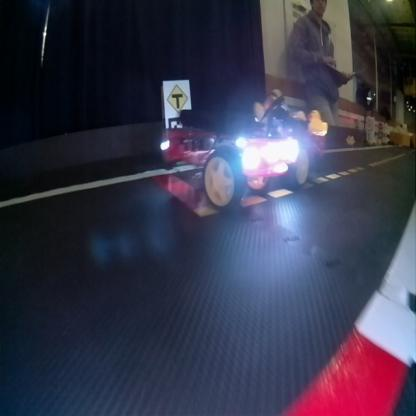Duckie: (307, 109, 325, 136), (349, 135, 354, 144)
Duckiebot: (160, 98, 324, 212)
Intersection sign: (164, 83, 190, 113)
